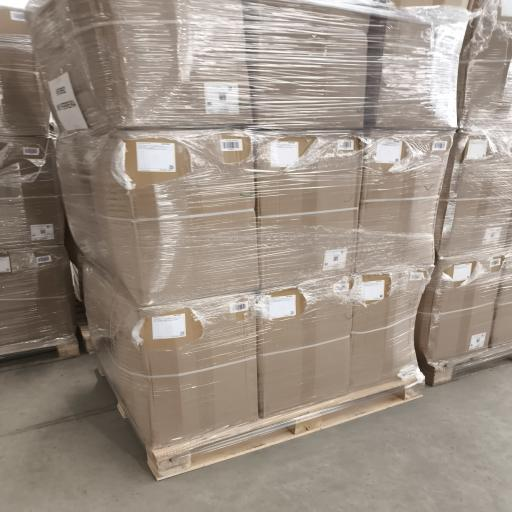pallet: (147, 381, 424, 480), (419, 344, 511, 386), (0, 338, 79, 371), (76, 300, 94, 353)
